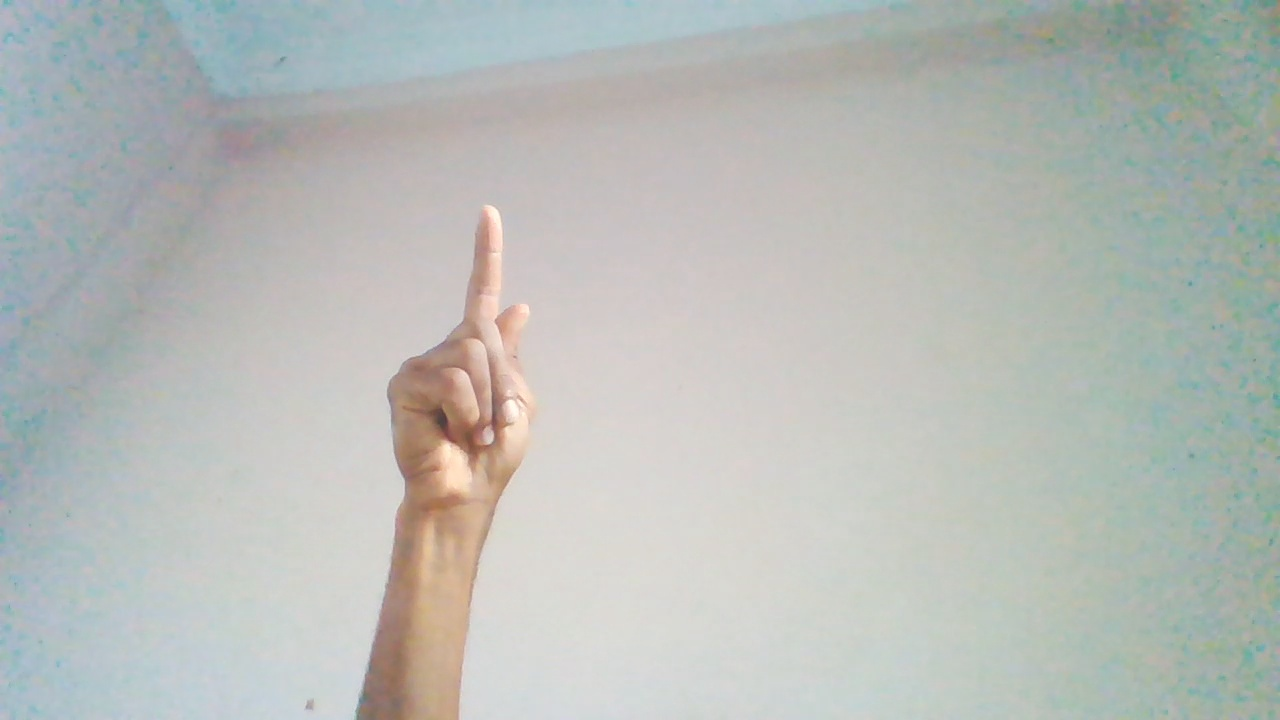ne: (387, 207, 539, 615)
